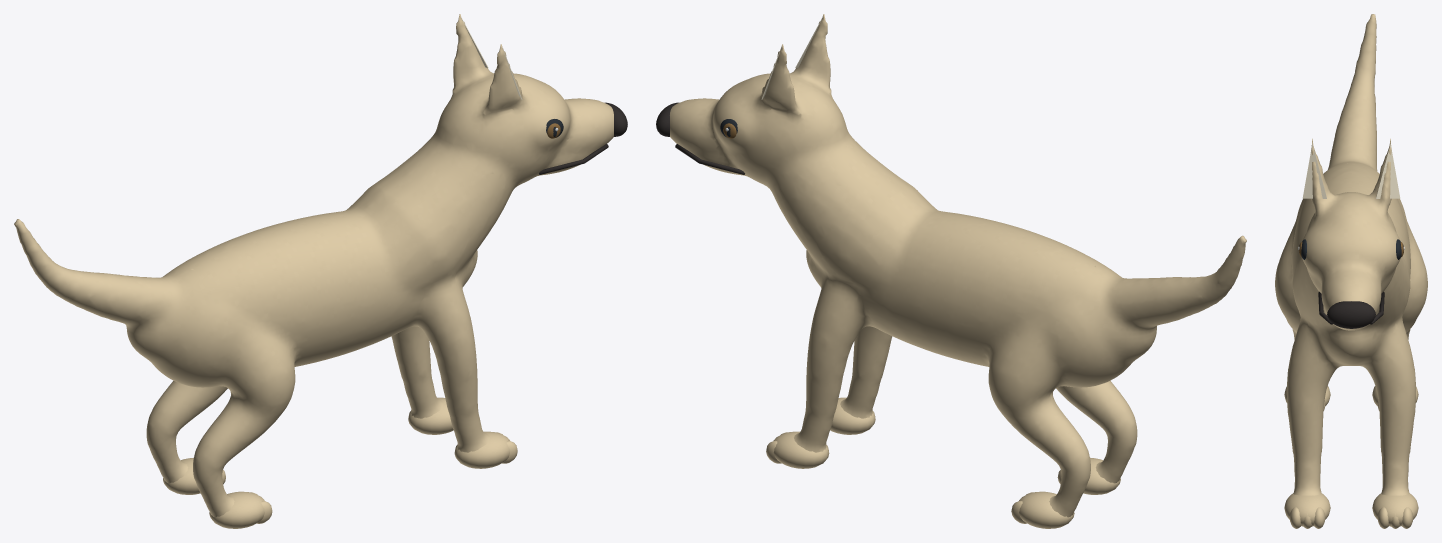
Rendered from dog.glb.
3 views of the same model, side by side, from view 1: azimuth 30°, elevation 25°; view 2: azimuth 150°, elevation 25°; view 3: azimuth 270°, elevation 25° (orthographic). The views are drawn at different scales.
Visible parts, largest first — view 1: Continuous anatomical skin, Rounded paw.001, Rounded paw, Rounded paw.002; view 2: Continuous anatomical skin, Rounded paw.003, Rounded paw.002, Rounded paw; view 3: Continuous anatomical skin, Nose, Rounded paw, Rounded paw.002, Inner ear, Inner ear.001, Toe, Toe.002, Toe.006, Toe.008.
Boxes of the visible parts, x1,y1,x2,y2 form: Continuous anatomical skin: [14, 14, 613, 517]; Rounded paw.001: [209, 491, 264, 528]; Rounded paw: [454, 431, 509, 468]; Rounded paw.002: [408, 397, 453, 434]; Continuous anatomical skin: [670, 14, 1246, 517]; Rounded paw.003: [1019, 491, 1074, 528]; Rounded paw.002: [773, 431, 829, 468]; Rounded paw: [830, 397, 875, 434]; Continuous anatomical skin: [1275, 14, 1427, 495]; Nose: [1327, 301, 1375, 328]; Rounded paw: [1284, 493, 1330, 526]; Rounded paw.002: [1372, 493, 1418, 526]; Inner ear: [1302, 143, 1326, 198]; Inner ear.001: [1376, 143, 1400, 198]; Toe: [1289, 507, 1301, 528]; Toe.002: [1314, 507, 1325, 528]; Toe.006: [1377, 507, 1388, 528]; Toe.008: [1401, 507, 1413, 528].
Size of the model in its own units: 0.5117 by 0.34 by 0.1199.
Materials: 6 (6 with a texture image).
